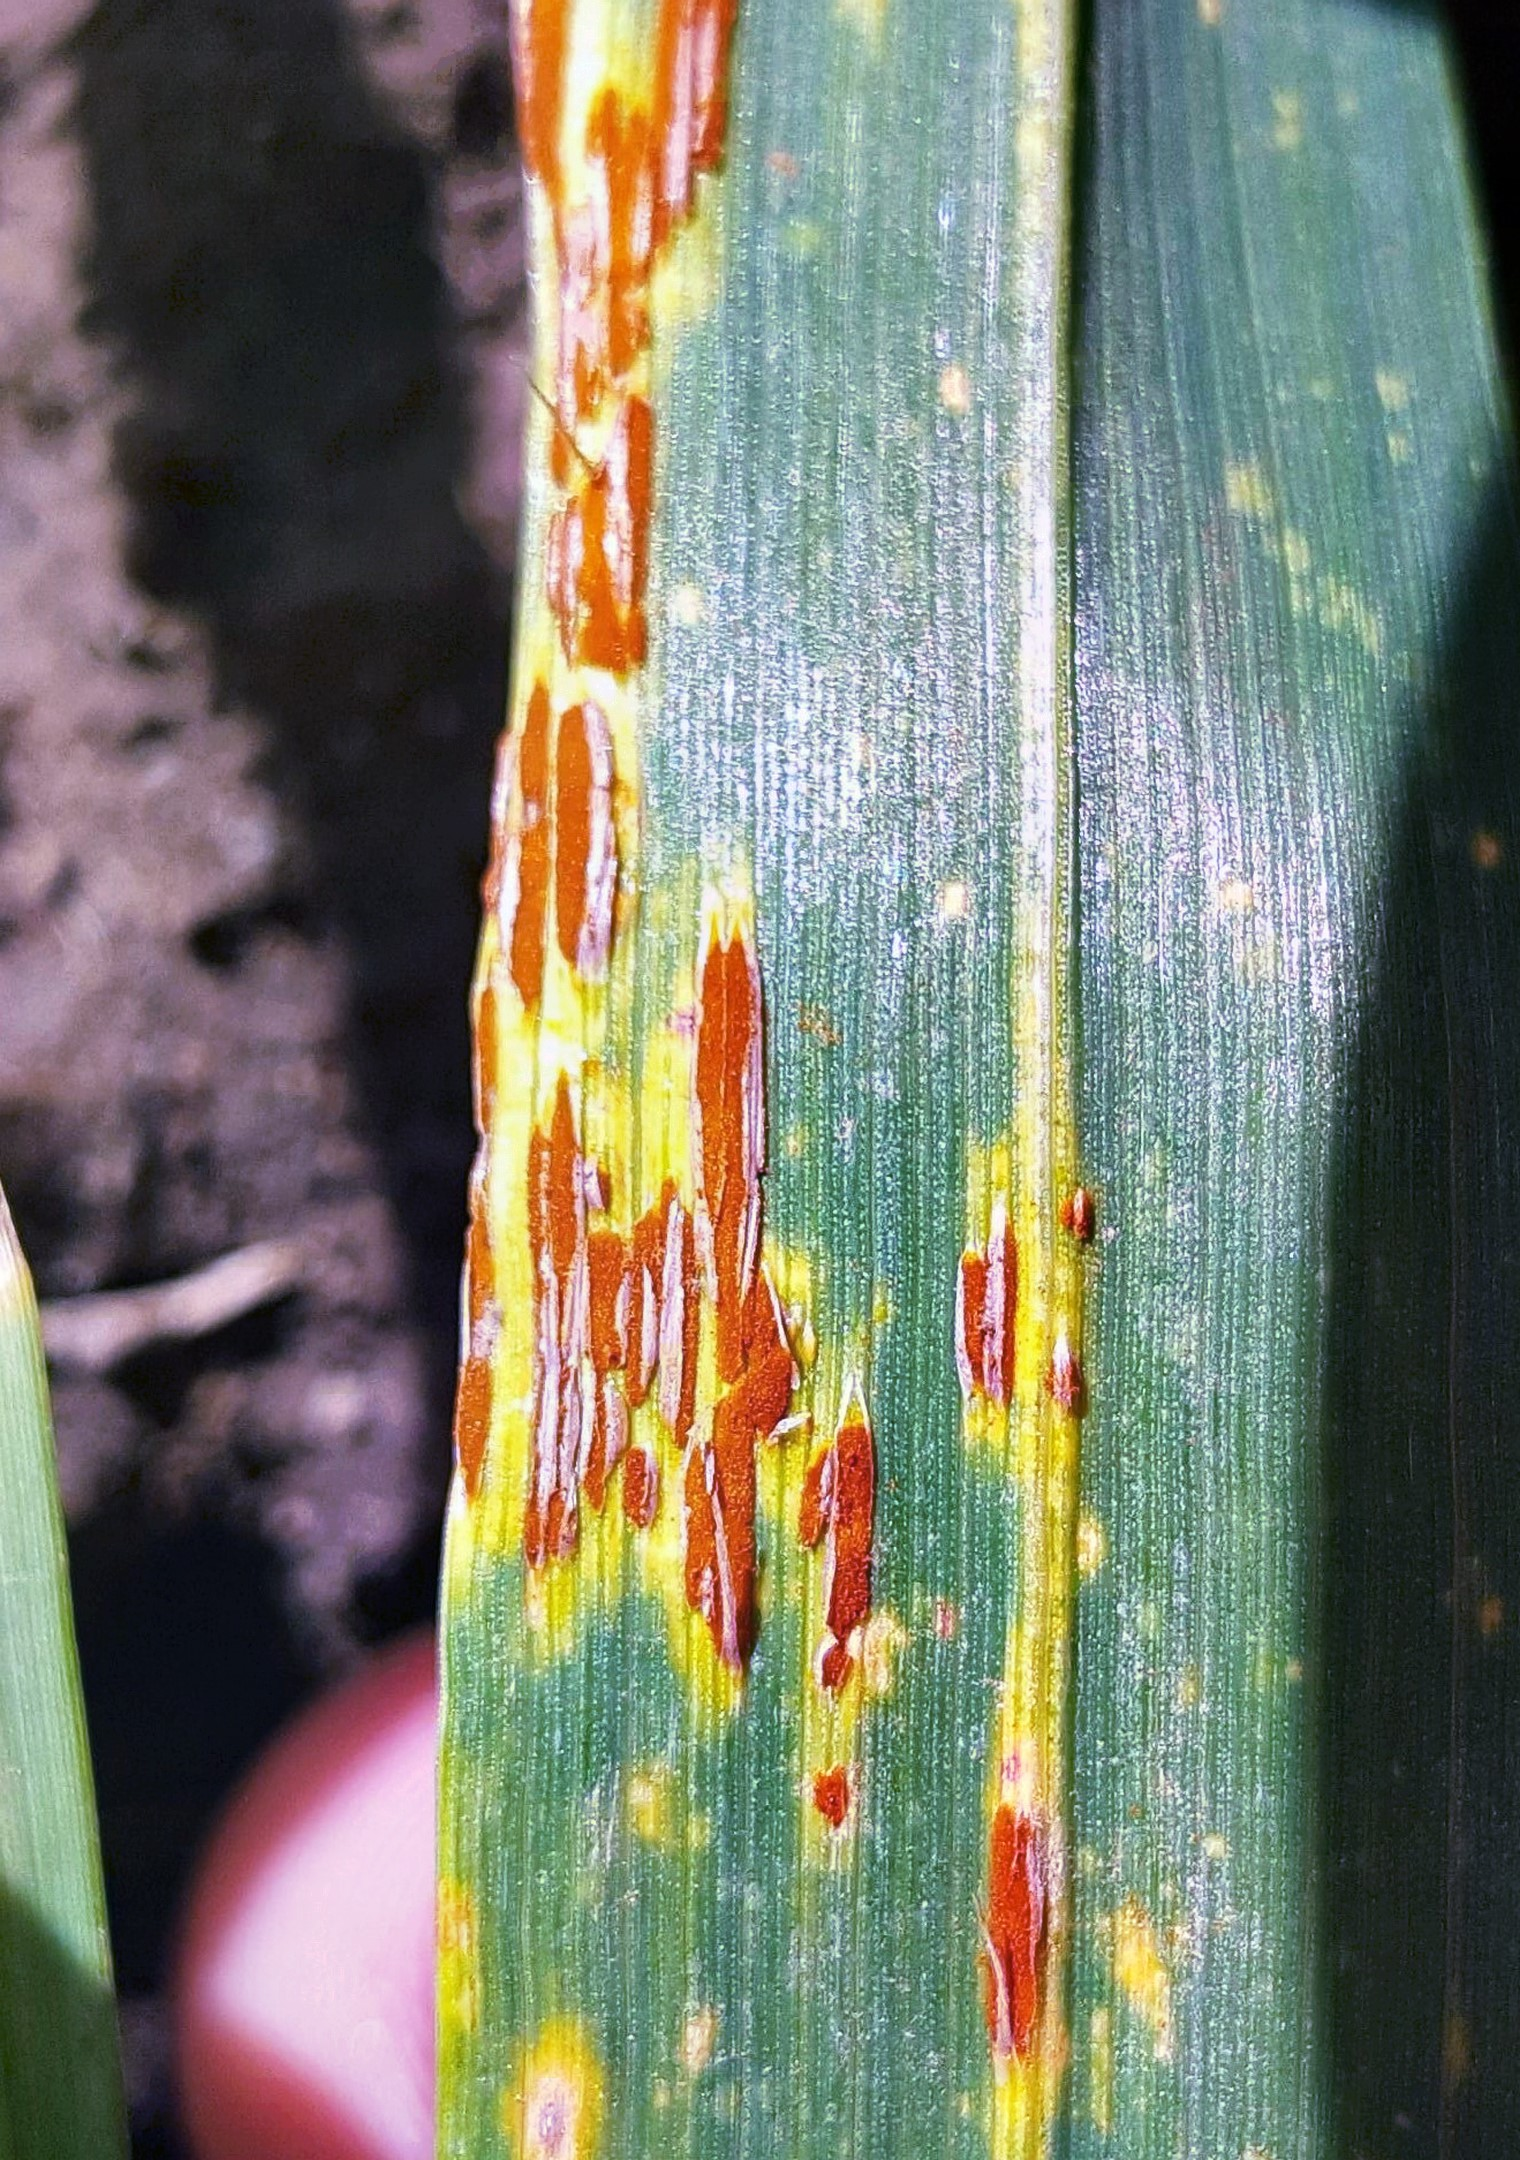Leaf Rust: (375, 169, 1038, 1811)
